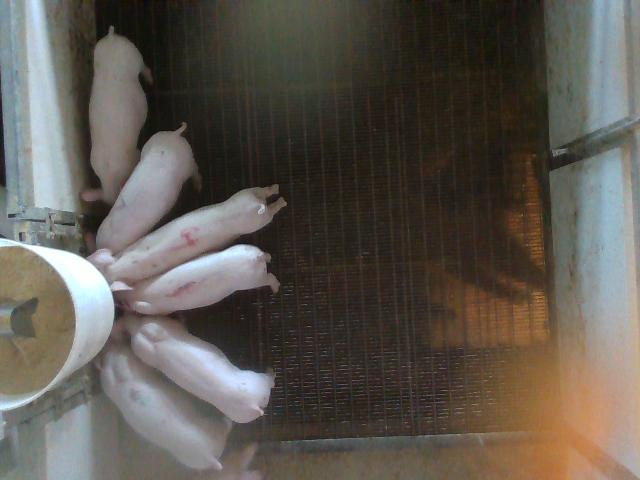pig-1: (115, 245, 280, 315)
pig-4: (88, 186, 286, 290)
